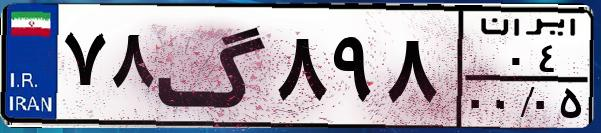0: (508, 27, 537, 80), (470, 70, 495, 125), (495, 70, 520, 125), (535, 70, 560, 125)
4: (537, 27, 568, 80)
5: (560, 70, 590, 125)
7: (57, 26, 110, 100)
8: (270, 28, 330, 110), (385, 28, 445, 110), (110, 28, 156, 98)
9: (330, 28, 385, 110)
گ: (156, 12, 270, 120)
